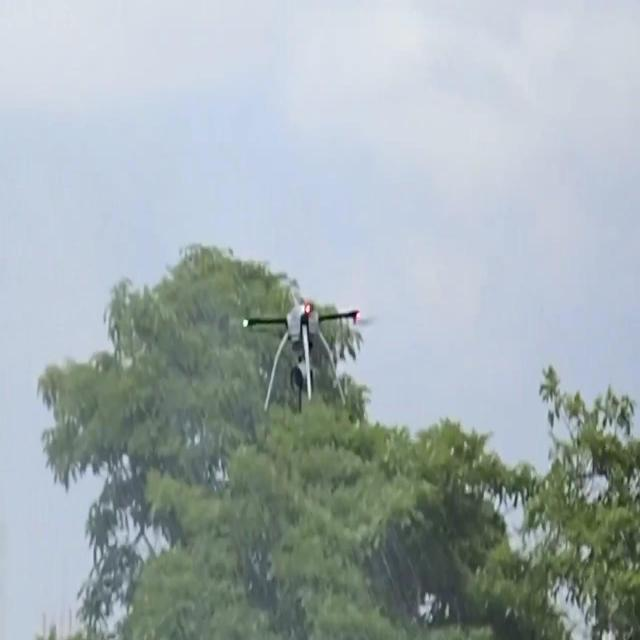drone: (242, 297, 360, 415)
